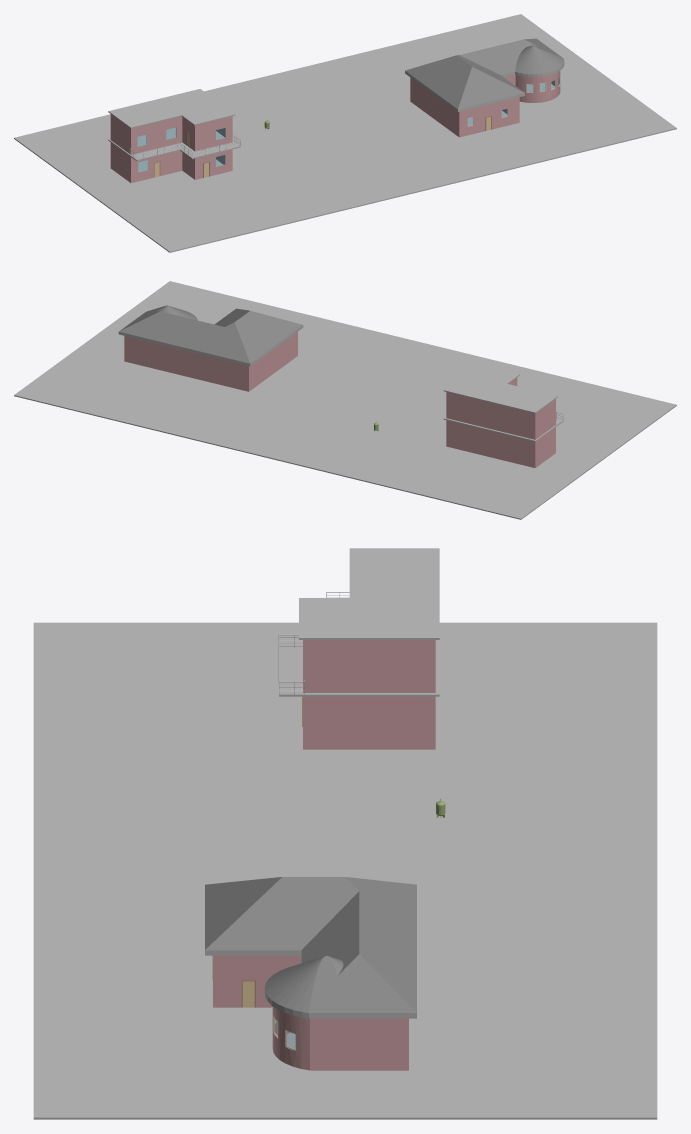
3 renders of one model, top to bottom at view 1: azimuth 30°, elevation 25°; view 2: azimuth 150°, elevation 25°; view 3: azimuth 270°, elevation 25°, orthographic. The views are drawn at different scales.
Visible parts, largest first — view 1: 默认楼板 (×4), 砌体 - 普通砖 75x225mm (×9), 沥青, fdcdcf89-ff0b-4dd9-b2bf-c31a9d1f50ae-0004dc6a; view 2: 默认楼板 (×3), 砌体 - 普通砖 75x225mm (×6), 沥青; view 3: 默认楼板 (×4), 砌体 - 普通砖 75x225mm (×5), 沥青.
Part boxes in pixels (<box>): 默认楼板 (×4): <box>14,14,676,252</box>; 砌体 - 普通砖 75x225mm (×9): <box>110,71,560,183</box>; 沥青: <box>405,38,564,109</box>; fdcdcf89-ff0b-4dd9-b2bf-c31a9d1f50ae-0004dc6a: <box>129,136,240,159</box>; 默认楼板 (×3): <box>14,281,676,519</box>; 砌体 - 普通砖 75x225mm (×6): <box>124,332,555,468</box>; 沥青: <box>119,305,302,363</box>; 默认楼板 (×4): <box>33,548,657,1119</box>; 砌体 - 普通砖 75x225mm (×5): <box>214,640,435,1070</box>; 沥青: <box>205,877,416,1012</box>.
Size of the model in its own units: 73.99 by 8.2 by 39.39.
